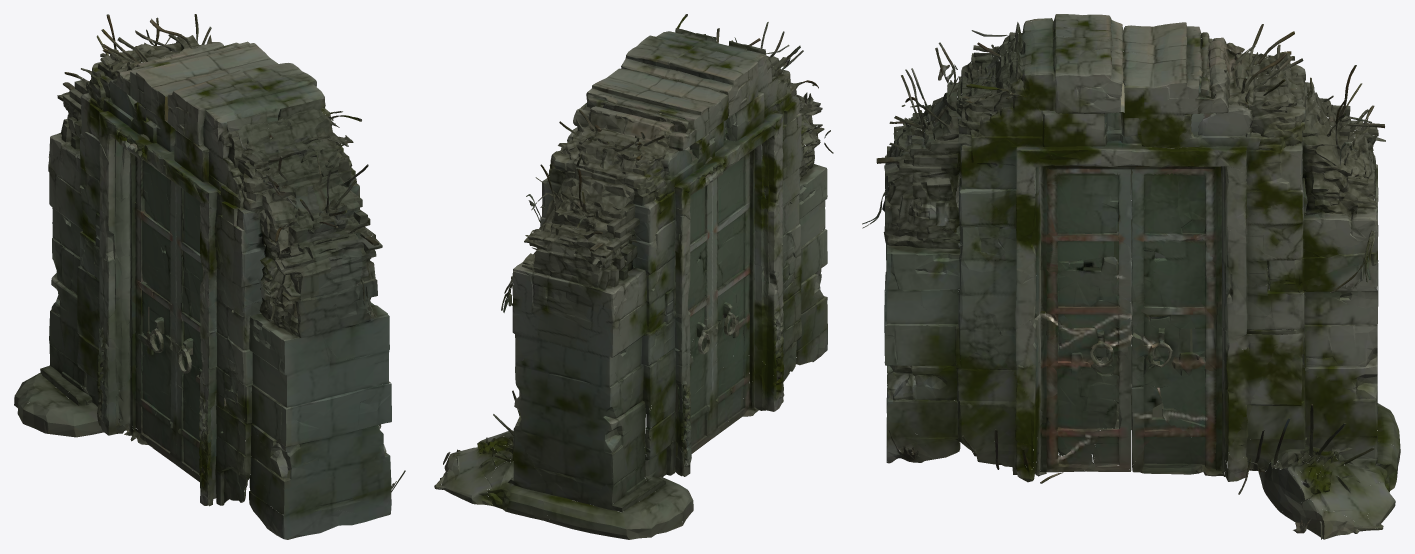
File: door_optimized.glb
3 views of the same model, side by side, from view 1: azimuth 30°, elevation 25°; view 2: azimuth 150°, elevation 25°; view 3: azimuth 270°, elevation 25° (orthographic). The views are drawn at different scales.
Parts seen in each view (by area): view 1: tripo_node_5f492623-217b-4b4d-8879-ab1a8ff08094; view 2: tripo_node_5f492623-217b-4b4d-8879-ab1a8ff08094; view 3: tripo_node_5f492623-217b-4b4d-8879-ab1a8ff08094.
Boxes of the visible parts, box(x1,y1,x2,y2) form: tripo_node_5f492623-217b-4b4d-8879-ab1a8ff08094: box(14, 14, 405, 539); tripo_node_5f492623-217b-4b4d-8879-ab1a8ff08094: box(434, 14, 833, 539); tripo_node_5f492623-217b-4b4d-8879-ab1a8ff08094: box(862, 14, 1400, 539).
Bounding box in the file's own units: 0.5901 × 0.8604 × 0.9997.
Materials: 1 (1 with a texture image).
